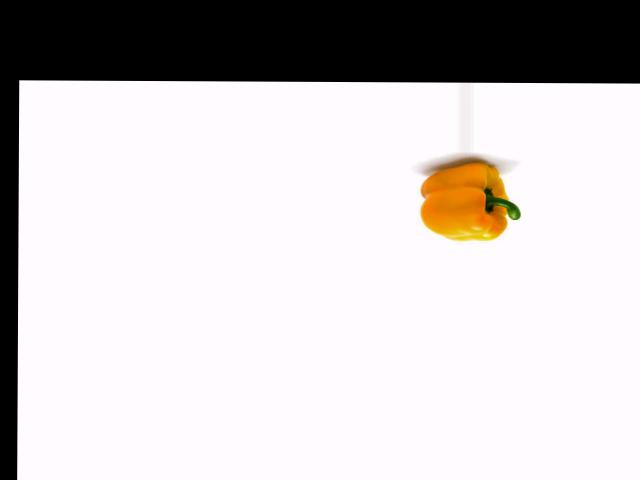bell_pepper: (417, 162, 529, 245)
